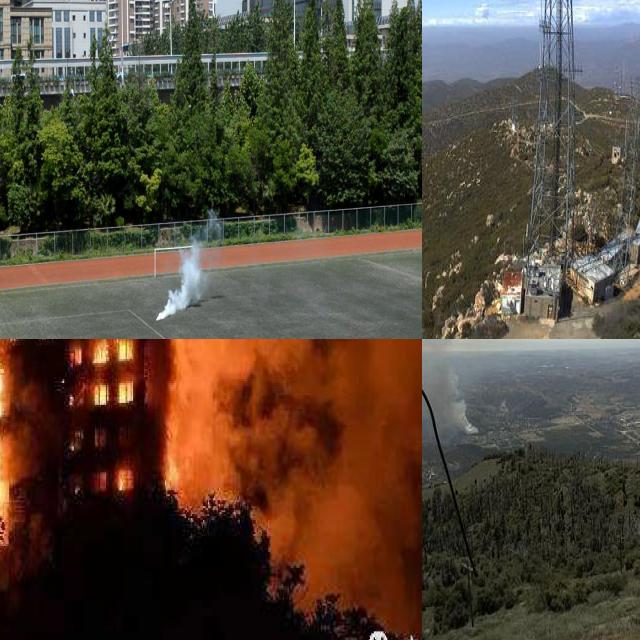fire: (66, 339, 190, 496), (0, 339, 36, 528)
smoke: (175, 339, 422, 640), (155, 214, 224, 320), (422, 339, 481, 436)
